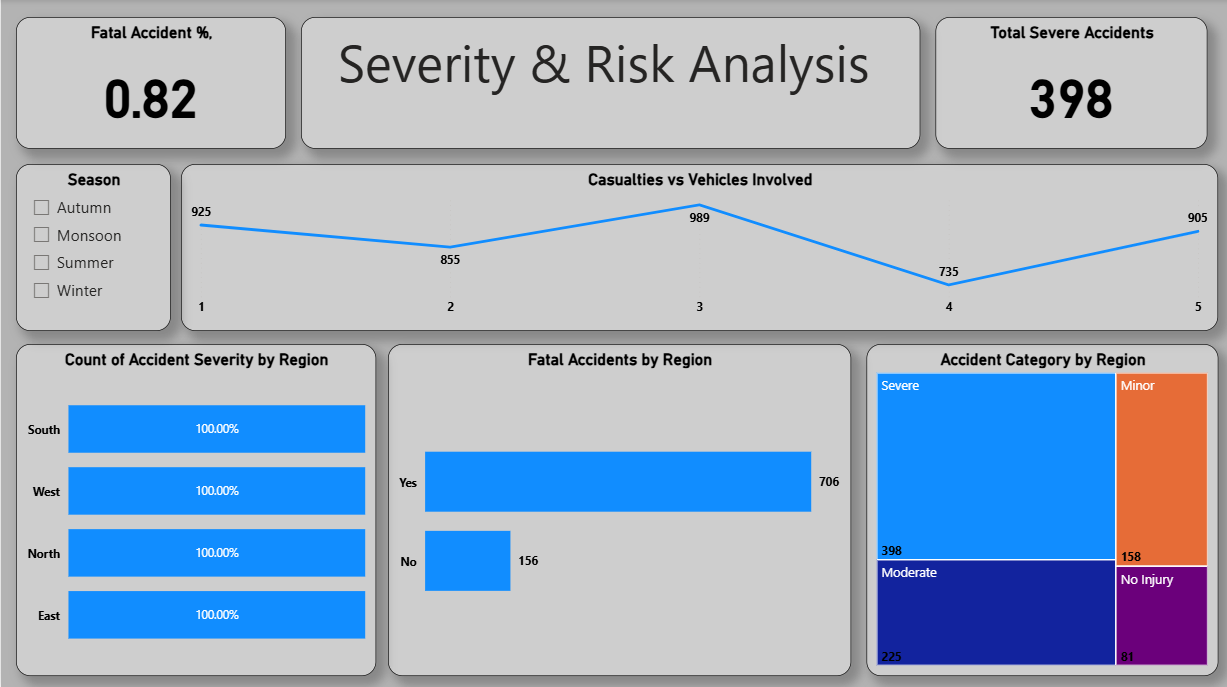

The page's visual inventory and layout, read from the dashboard file:
{"tool":"powerbi","page":{"name":"Page 4","canvas":[1280,720],"ordinal":3},"visuals":[{"type":"treemap","title":"Accident Category by Region","fields":{"Group":["accident_dashboard_final.Accident Category"],"Values":["CountNonNull(accident_dashboard_final.Region)"]},"box":[901.2,359.5,366.8,346.2],"z":0},{"type":"barChart","title":"Fatal Accidents by Region ","fields":{"Category":["accident_dashboard_final.Fatality Flag"],"Y":["CountNonNull(accident_dashboard_final.Region)"]},"box":[403,359.5,482.6,346.2],"z":1000},{"type":"lineChart","title":"Casualties vs Vehicles Involved","fields":{"Category":["accident_dashboard_final.Number of Vehicles Involved"],"Y":["Sum(accident_dashboard_final.Number of Casualties)"]},"box":[187,172.5,1081,173.7],"z":2000},{"type":"hundredPercentStackedBarChart","fields":{"Y":["CountNonNull(accident_dashboard_final.Accident Severity)"],"Category":["accident_dashboard_final.Region"]},"box":[15.7,359.5,375.2,346.2],"z":3000},{"type":"slicer","title":"Season","fields":{"Values":["accident_dashboard_final.Season"]},"box":[15.7,172.5,161.7,173.7],"z":4000},{"type":"card","title":"Fatal Accident %,","fields":{"Values":["accident_dashboard_final.Fatal_Accident_Percentage"]},"box":[15.7,18.1,281.1,137.5],"z":5000},{"type":"card","title":"Total Severe Accidents","fields":{"Values":["accident_dashboard_final.Severe_Accident_Count"]},"box":[973.6,18.1,283.5,137.5],"z":6000},{"type":"textbox","box":[312.5,18.1,645.4,137.5],"z":7000}]}

Visuals, with their boxes in screenshot pixels (x1, y1, x2, y2), scaled from the page's 1280x720 canvas onto the 1227x687 screenshot:
"Accident Category by Region" treemap: 864 343 1215 673
"Fatal Accidents by Region " barChart: 386 343 849 673
"Casualties vs Vehicles Involved" lineChart: 179 165 1215 330
hundredPercentStackedBarChart - CountNonNull(accident_dashboard_final.Accident Severity) x accident_dashboard_final.Region: 15 343 375 673
"Season" slicer: 15 165 170 330
"Fatal Accident %," card: 15 17 285 148
"Total Severe Accidents" card: 933 17 1205 148
textbox: 300 17 918 148
